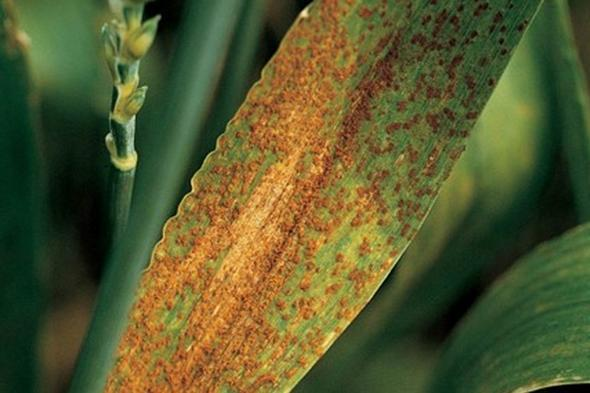Corn_Common_Rust: (258, 1, 548, 138), (148, 132, 222, 393), (260, 138, 471, 198), (222, 81, 259, 393), (259, 198, 435, 261), (259, 262, 394, 329), (98, 264, 150, 393), (258, 331, 344, 393), (512, 369, 590, 393)
